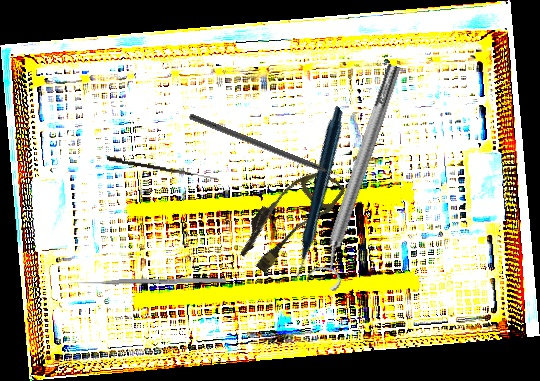Cannula: (231, 155, 347, 282)
Fixation Ring: (303, 60, 414, 293)
Handpiece: (224, 105, 406, 282)
Hook Surgical: (187, 113, 350, 185), (106, 156, 220, 180)
Pusher: (69, 277, 227, 286)
